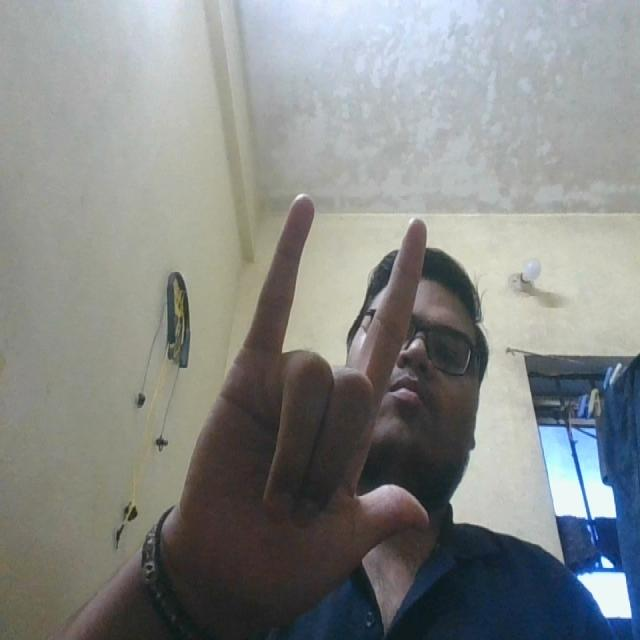iloveyou: (178, 160, 441, 578)
